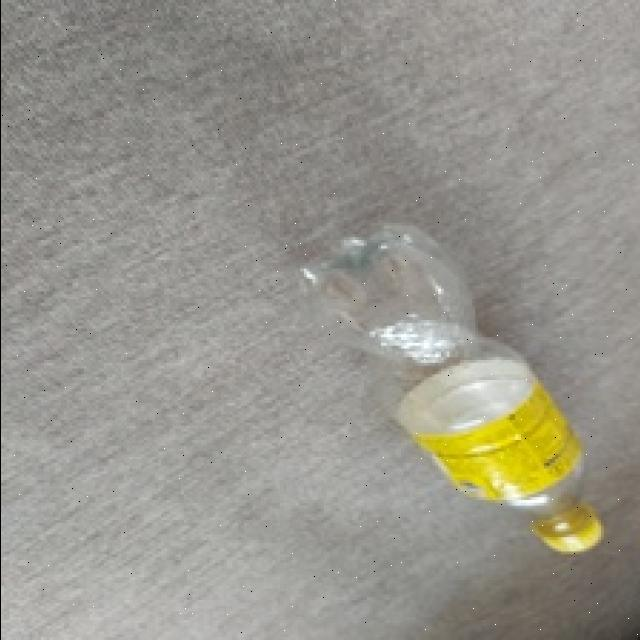plastic: (328, 227, 610, 552)
